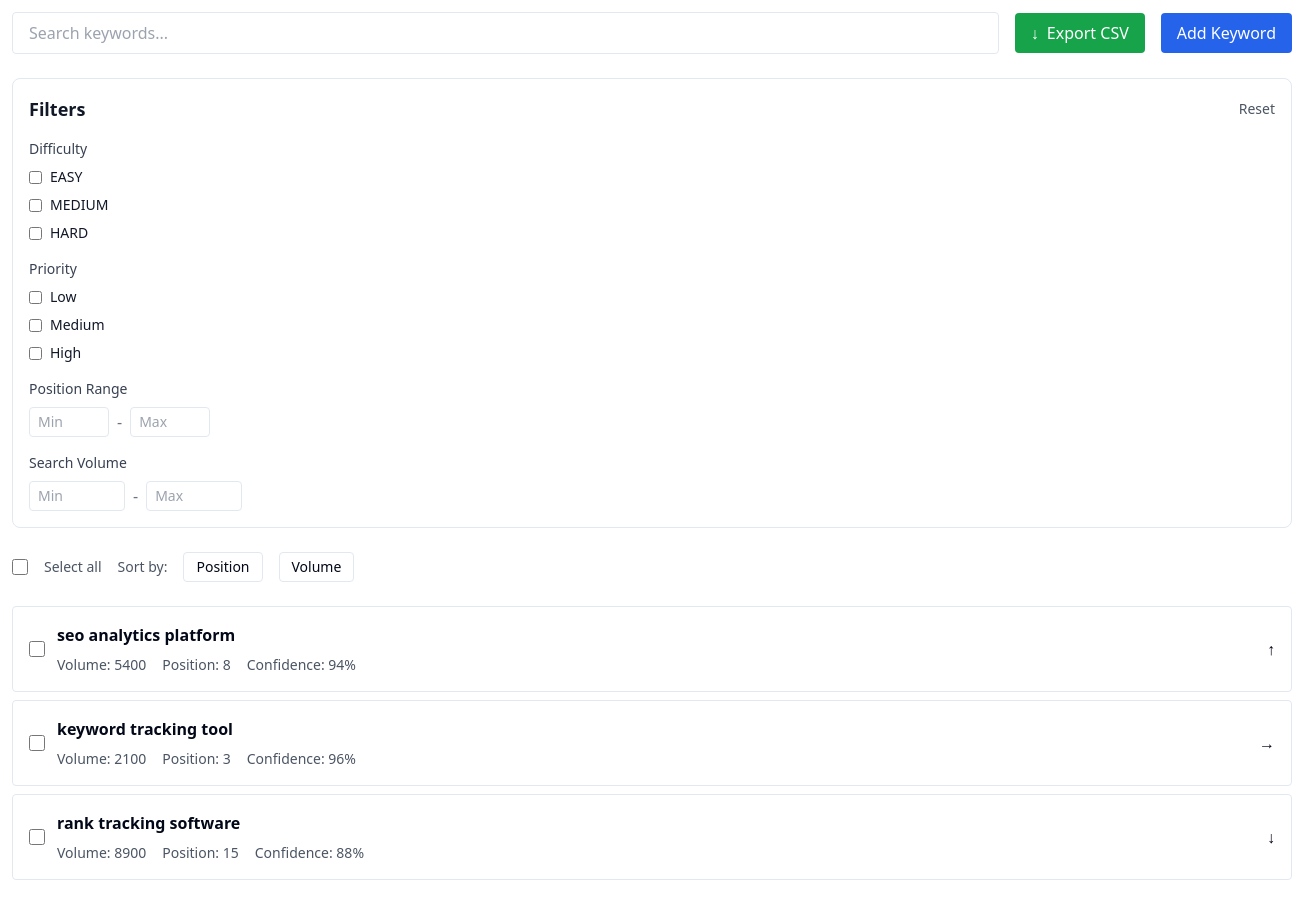
it: KeywordDashboard Component › Bulk Actions › should select all keywords with select-all checkbox
Click the checkbox with test id "select-all-checkbox". click: x=20, y=567
box: [12,559,28,575]
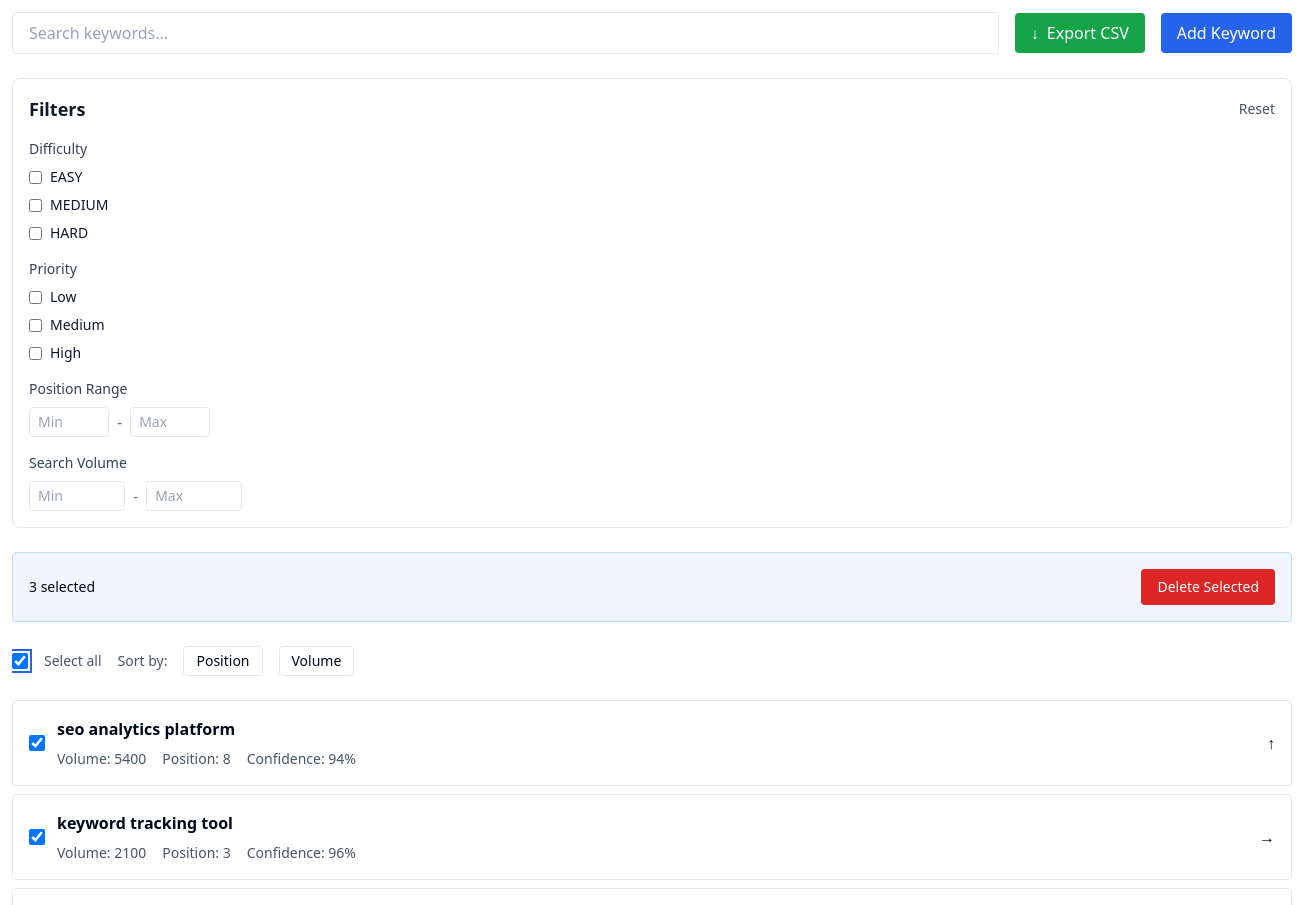
Expected: the checkbox with test id "checkbox-kw1" is checked, [29,735,45,751]
Expected: the checkbox with test id "checkbox-kw2" is checked, [29,829,45,845]
Expected: the text with test id "selected-count" reads "3 selected", [29,577,95,597]
